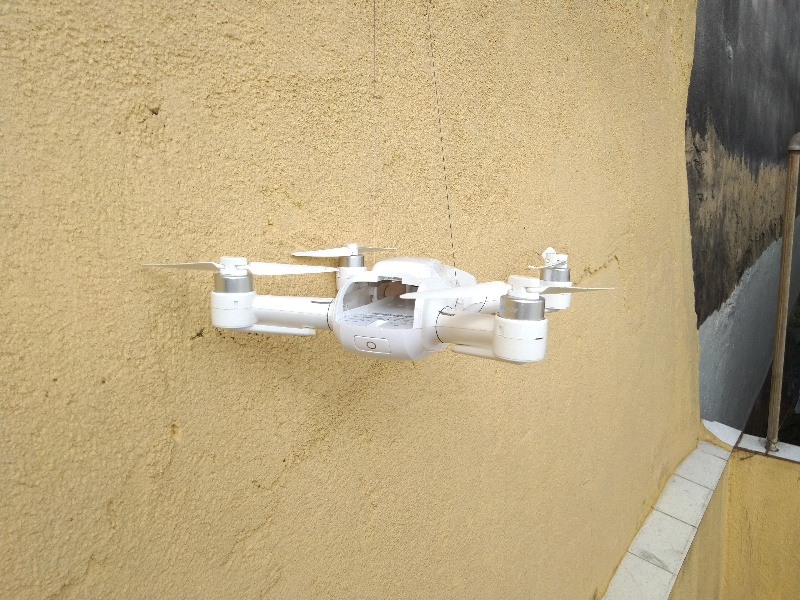drone: (174, 235, 609, 372)
